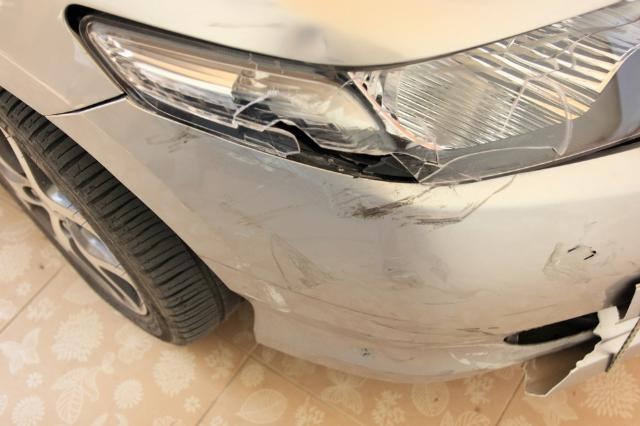Bumper: (325, 164, 640, 390)
Light: (177, 40, 459, 182)
